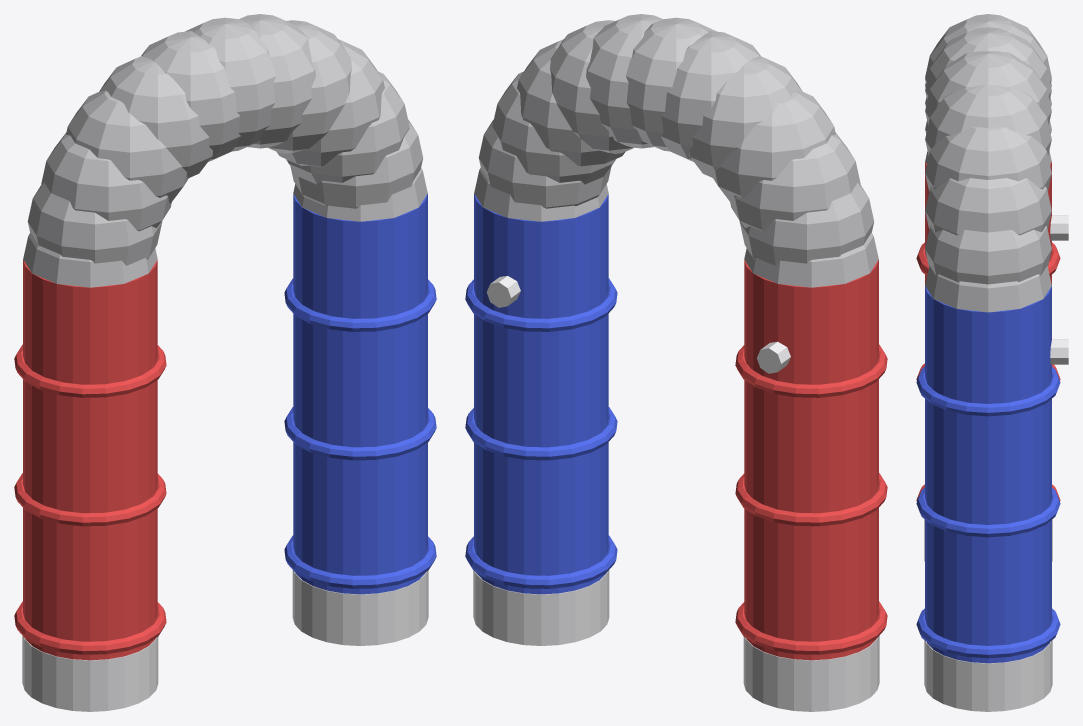
File: magnet.fbx
3 renders of one model, left to right at view 1: azimuth 30°, elevation 25°; view 2: azimuth 150°, elevation 25°; view 3: azimuth 270°, elevation 25°, orthographic. The views are drawn at different scales.
Parts seen in each view (by area): view 1: Magnet; view 2: Magnet; view 3: Magnet.
Boxes of the visible parts, x1,y1,x2,y2 form: Magnet: (14, 14, 436, 711); Magnet: (465, 14, 887, 711); Magnet: (916, 14, 1068, 711).
Bounding box in the file's own units: 65.6 × 97.5 × 22.8.
